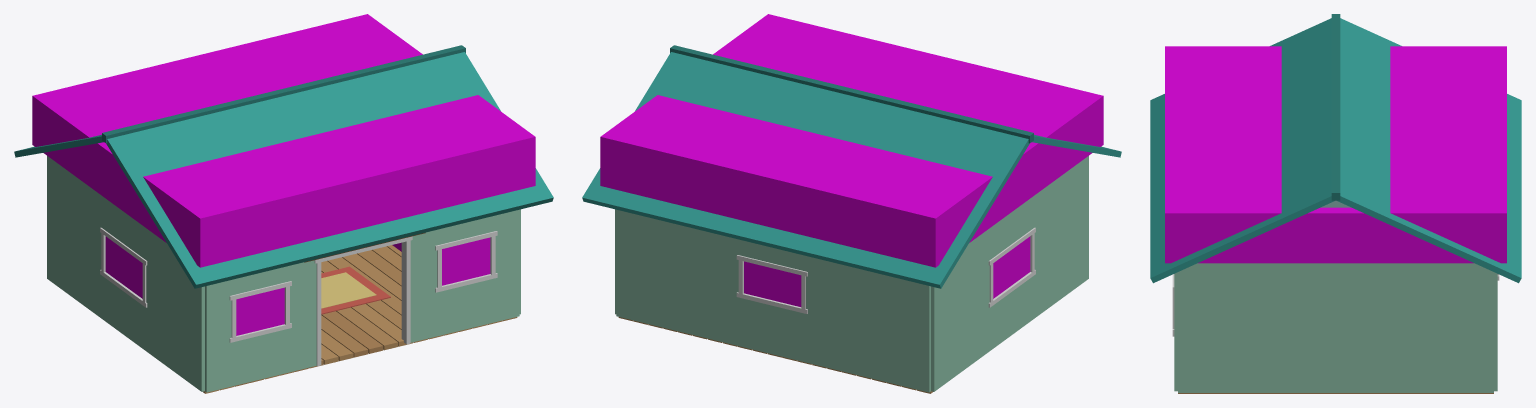
Rendered from tackle_shack.glb.
The picture shows the model from 3 angles, left to right: view 1: azimuth 30°, elevation 25°; view 2: azimuth 150°, elevation 25°; view 3: azimuth 270°, elevation 25°; orthographic projection.
Parts seen in each view (by area): view 1: tackle_shack, COL_tackle_shack; view 2: tackle_shack, COL_tackle_shack; view 3: tackle_shack, COL_tackle_shack.
Part boxes in pixels (x1,y1,x2,y2): tackle_shack: (14,45,553,393); COL_tackle_shack: (32,14,535,335); tackle_shack: (582,45,1121,393); COL_tackle_shack: (600,14,1103,306); tackle_shack: (1150,14,1521,393); COL_tackle_shack: (1165,46,1506,263).
Size of the model in its own units: 8.05 by 4.46 by 7.05.
